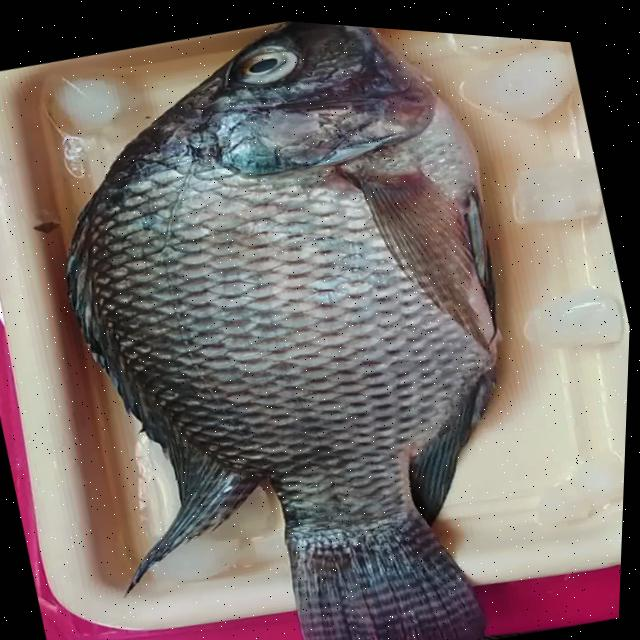Fresh: (64, 47, 527, 482), (210, 20, 324, 101)
